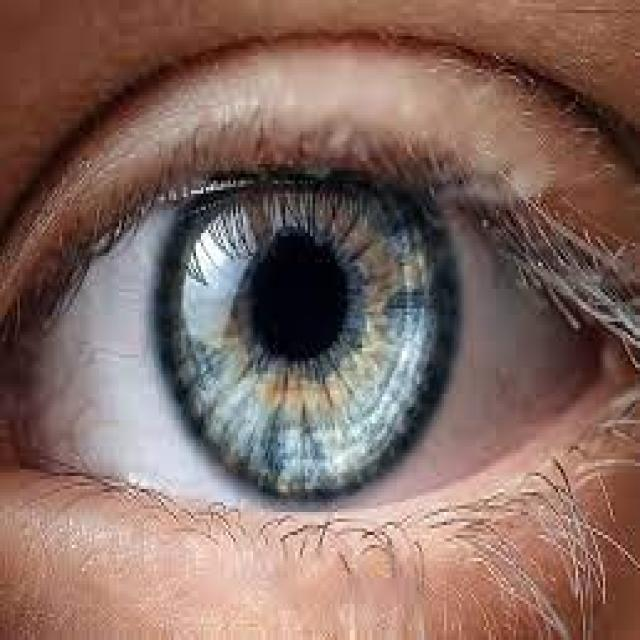Eyes-iris: (144, 138, 466, 513)
